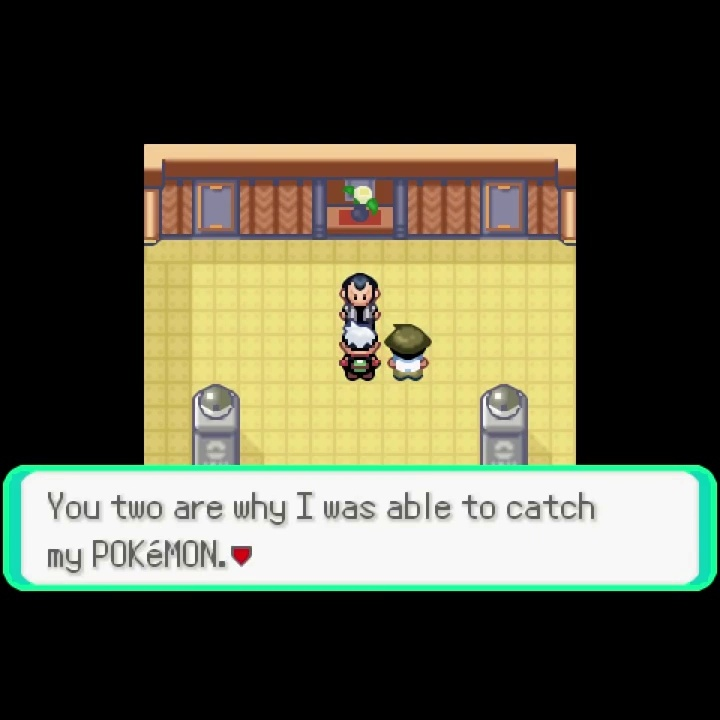npc: (384, 320, 433, 384), (333, 325, 383, 387), (336, 271, 383, 325)
